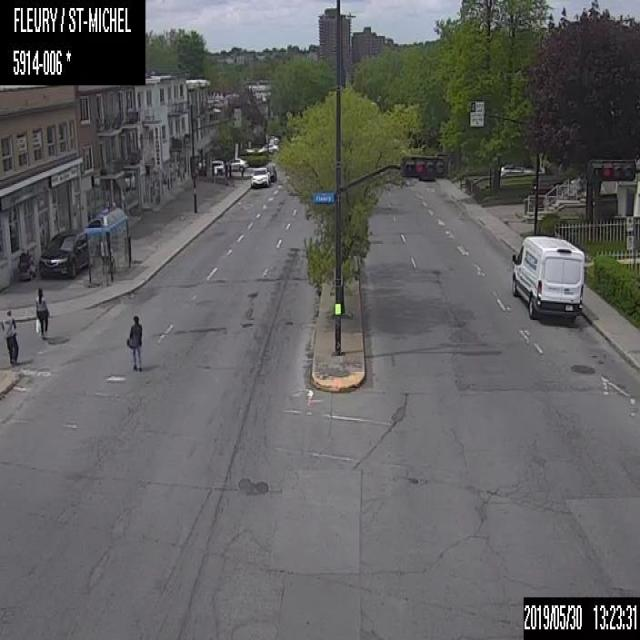pedestrian: (0, 307, 19, 364), (124, 313, 142, 372), (34, 286, 50, 338)
vehicle: (511, 233, 584, 320), (39, 228, 100, 278), (17, 246, 35, 279), (250, 166, 269, 188), (224, 157, 247, 170), (264, 162, 276, 181), (211, 159, 224, 174), (260, 143, 278, 152)
